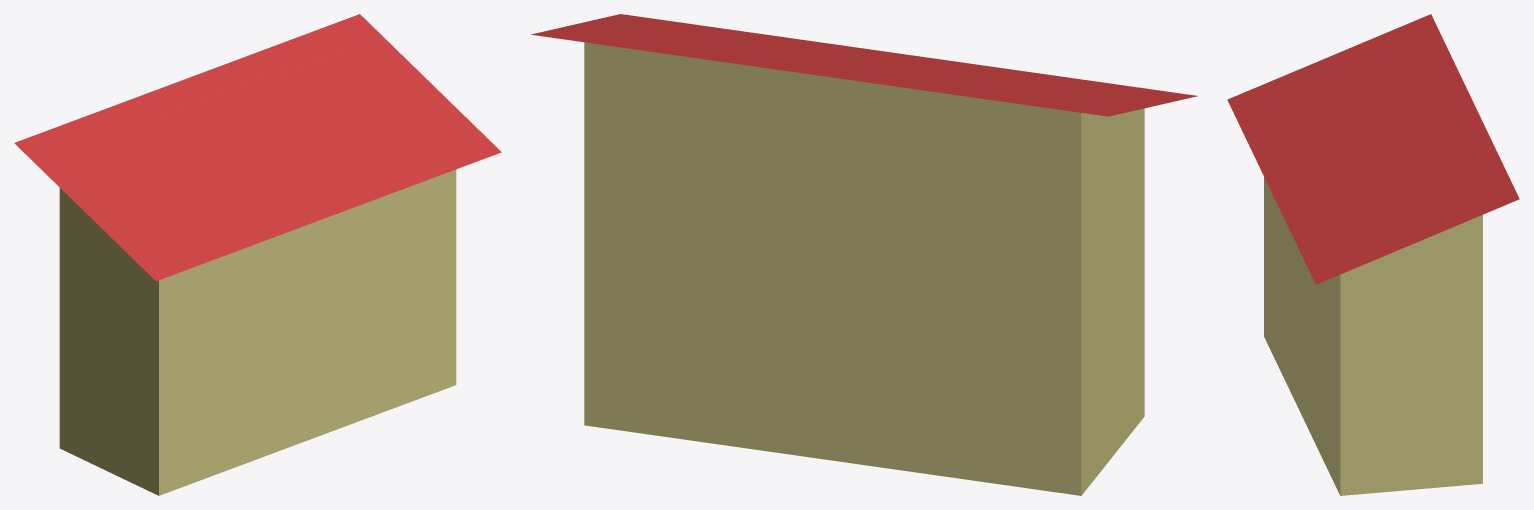
The picture shows the model from 3 angles, left to right: view 1: azimuth 30°, elevation 25°; view 2: azimuth 150°, elevation 25°; view 3: azimuth 270°, elevation 25°; orthographic projection. The views are drawn at different scales.
Bounding box in the file's own units: 11.5 × 7.02 × 7.8.
